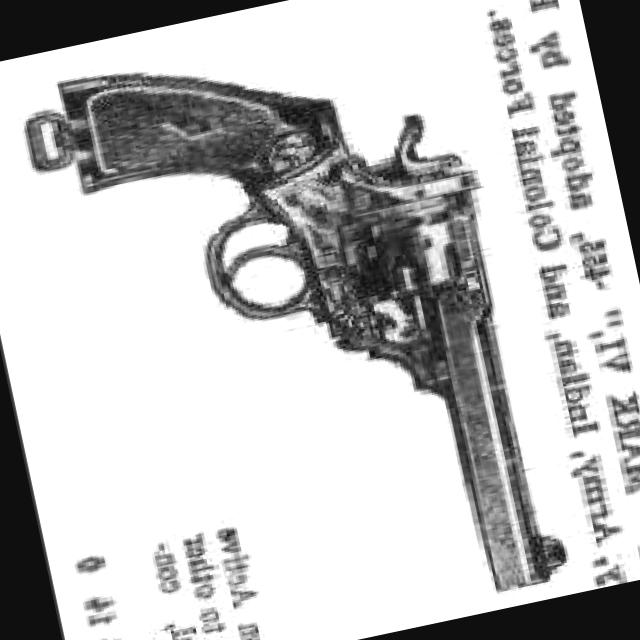handgun: (55, 0, 574, 639)
